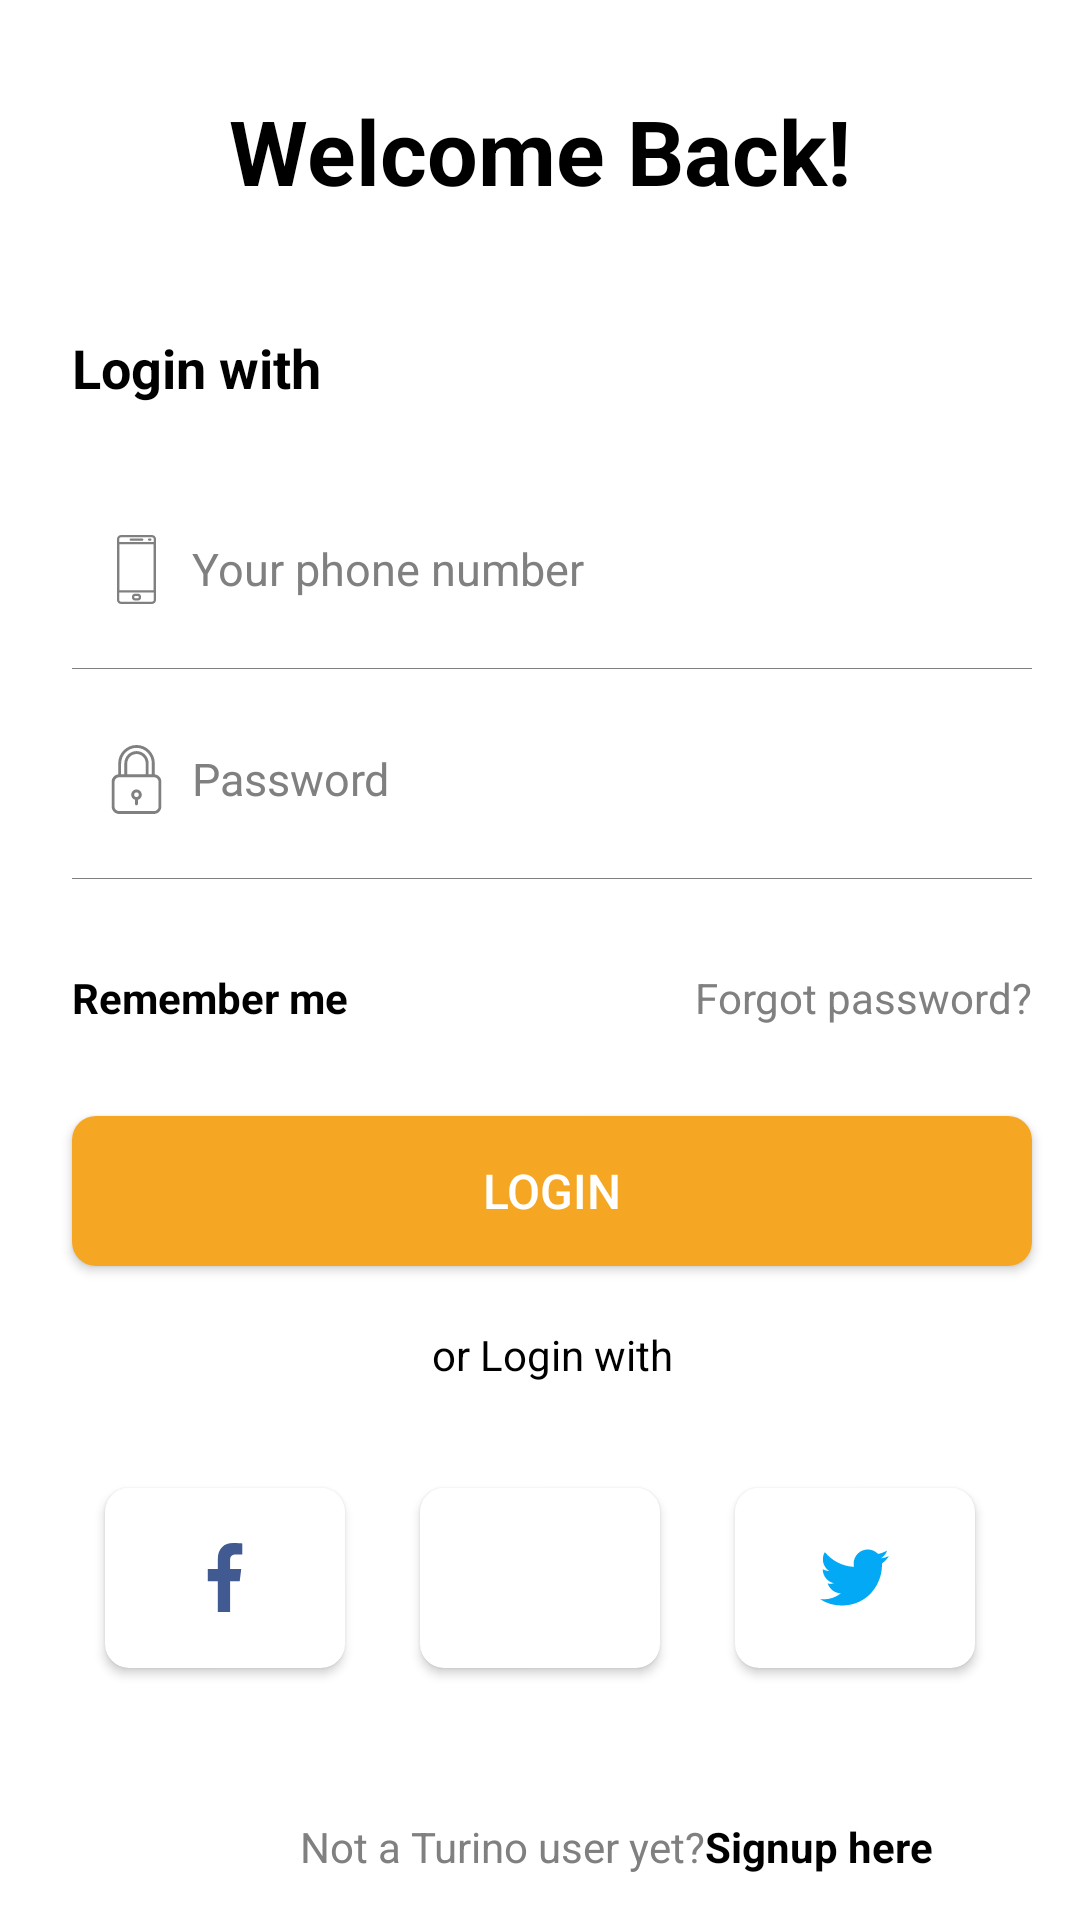

Icon bounding boxes for this 1080×1920 phone screenshot, format rect(x1, y1, x2, y2):
lock: rect(111, 745, 162, 814)
